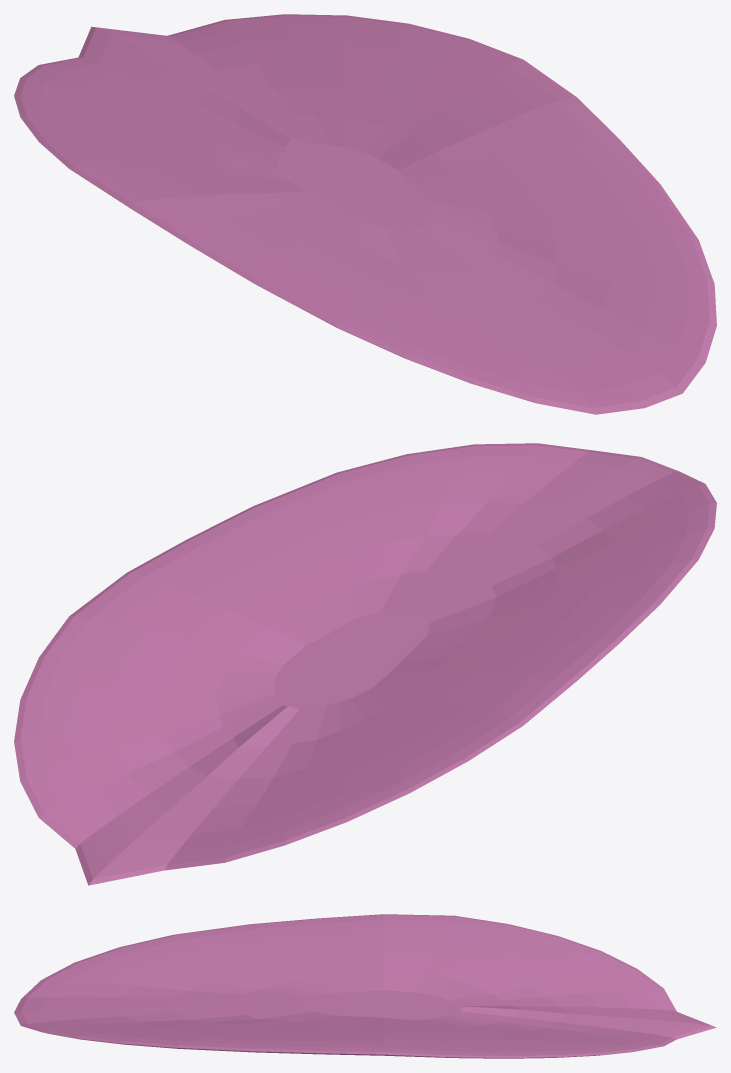
Rendered from Pe talo.fbx.
The picture shows the model from 3 angles, top to bottom: view 1: azimuth 30°, elevation 25°; view 2: azimuth 150°, elevation 25°; view 3: azimuth 270°, elevation 25°; orthographic projection. The views are drawn at different scales.
Visible parts, largest first — view 1: Sphere; view 2: Sphere; view 3: Sphere.
Part boxes in pixels (<box>): Sphere: <box>14,14,716,414</box>; Sphere: <box>14,443,716,885</box>; Sphere: <box>14,914,716,1058</box>.
Size of the model in its own units: 42.88 by 6.53 by 90.48.
